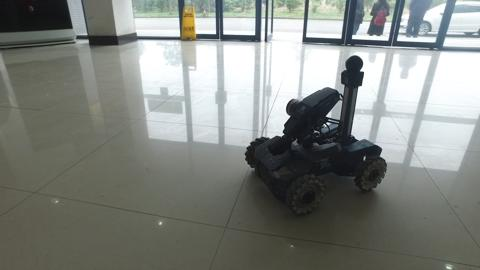chariot: (242, 54, 387, 216)
